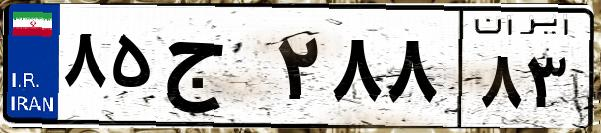2: (270, 28, 330, 110)
3: (525, 38, 570, 115)
5: (110, 28, 158, 98)
8: (385, 28, 445, 110), (330, 28, 385, 110), (57, 26, 110, 100), (475, 38, 525, 113)
ج: (158, 20, 270, 120)
